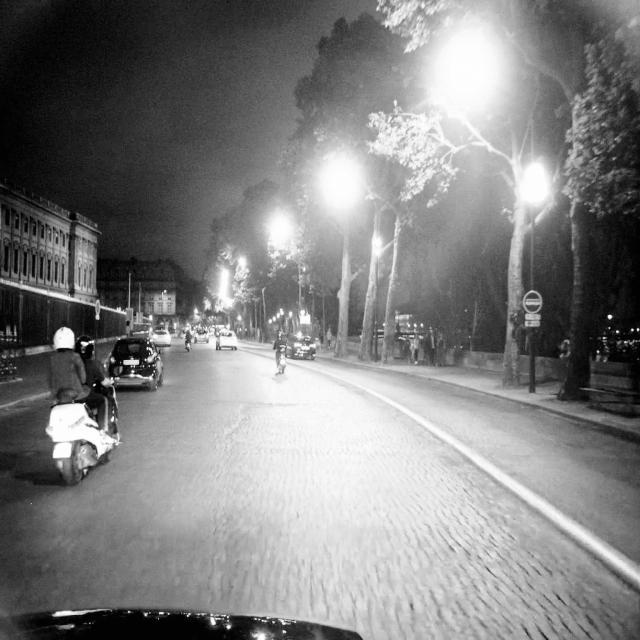Tree: (545, 3, 611, 408), (482, 79, 544, 395)
